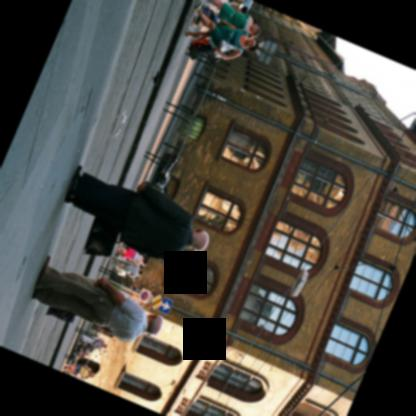backpack: (186, 33, 212, 60)
handbag: (81, 218, 120, 255), (43, 306, 75, 324), (216, 38, 241, 52)
